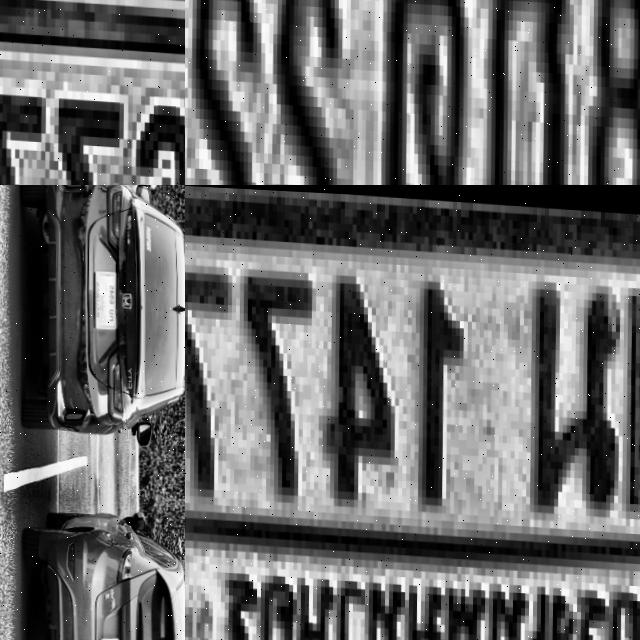license-plate: (185, 185, 640, 640), (185, 0, 640, 185), (0, 0, 185, 185), (0, 459, 26, 491)
